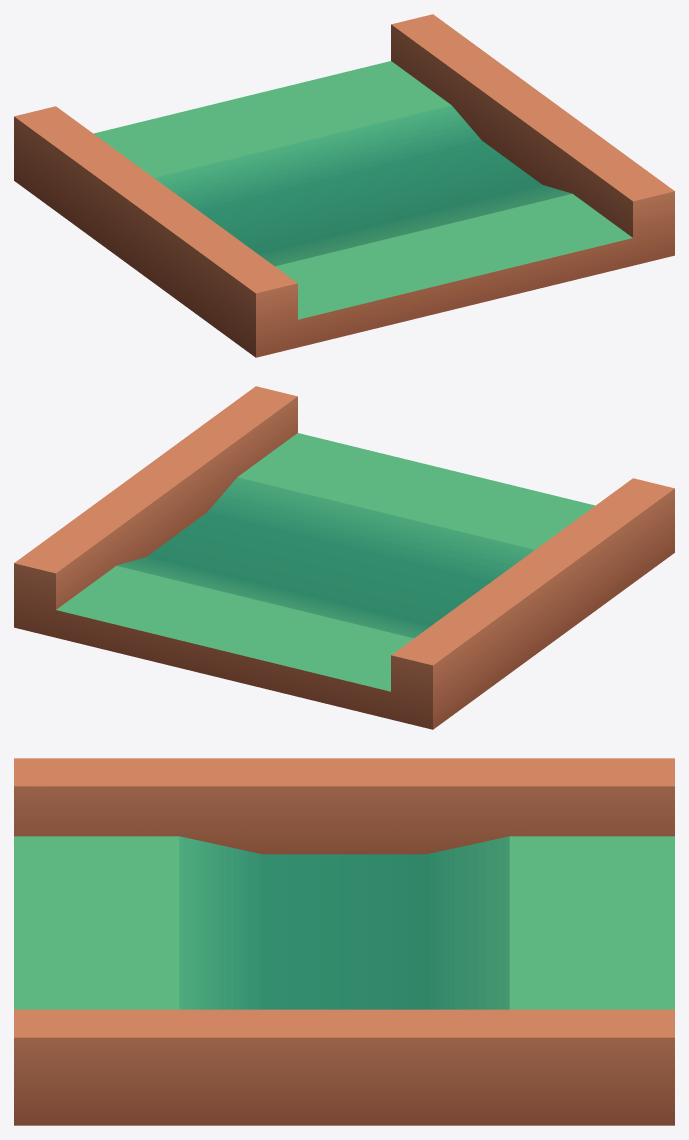
Rendered from crest.glb.
3 renders of one model, top to bottom at view 1: azimuth 30°, elevation 25°; view 2: azimuth 150°, elevation 25°; view 3: azimuth 270°, elevation 25°, orthographic. The views are drawn at different scales.
Parts seen in each view (by area): view 1: crest; view 2: crest; view 3: crest.
Part boxes in pixels (left/top/right/bottom): crest: left=14, top=14, right=674, bottom=357; crest: left=14, top=386, right=674, bottom=729; crest: left=14, top=758, right=674, bottom=1125.
Size of the model in its own units: 0.9999 by 0.1467 by 0.9999.
Materials: 1 (1 with a texture image).
